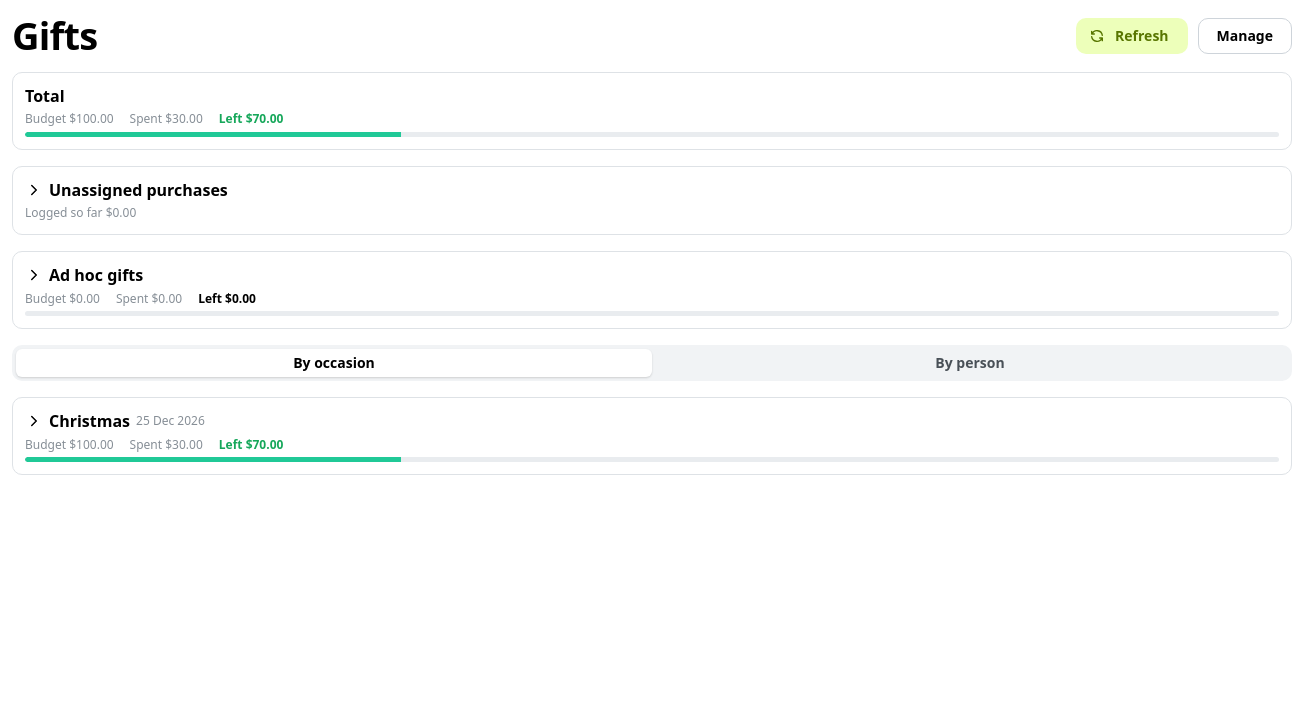
GiftsScreen wide rows › lays a gift and its purchases out as table rows with the remaining figure
Expected: the text "Left $70.00" below "Total" is shown, [219,111,283,128]
Step 1. Click the button "Christmas" → (90, 421), box [25,410,1279,462]
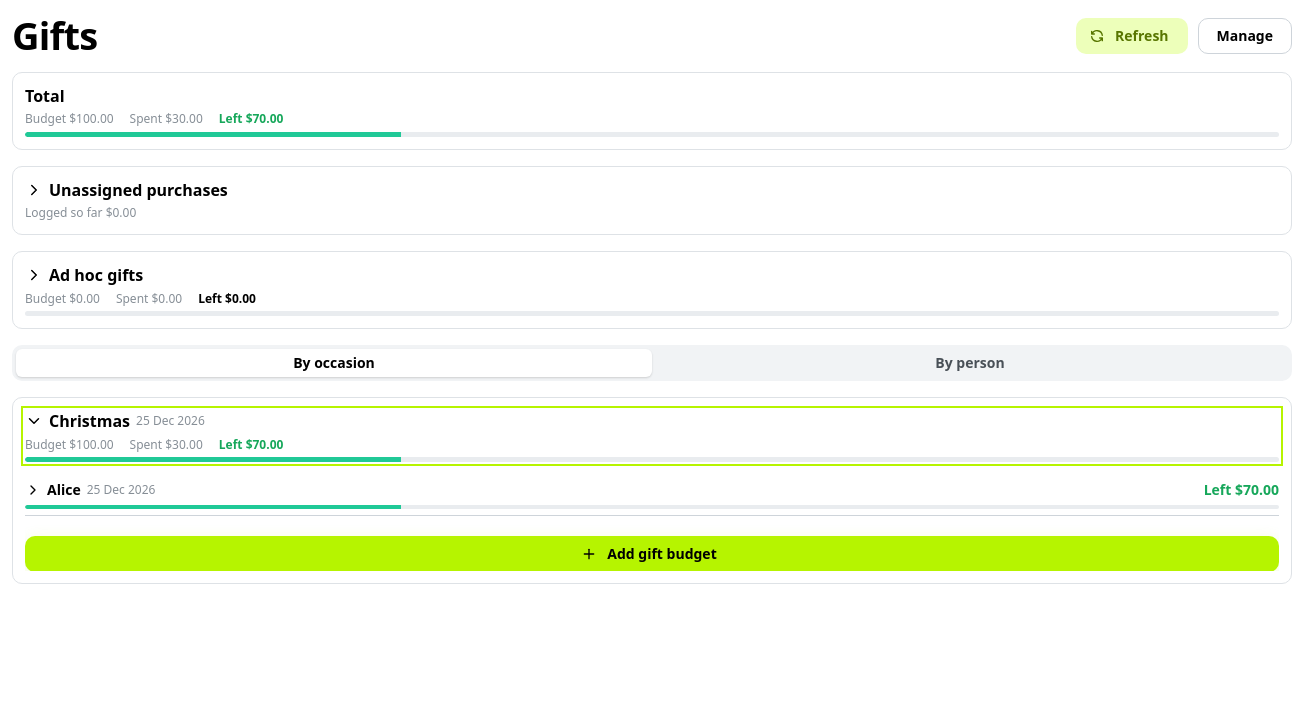
Step 2. Click the button "Alice 25 Dec 2026 Left $70.00" → (64, 490), box [25,480,1279,501]
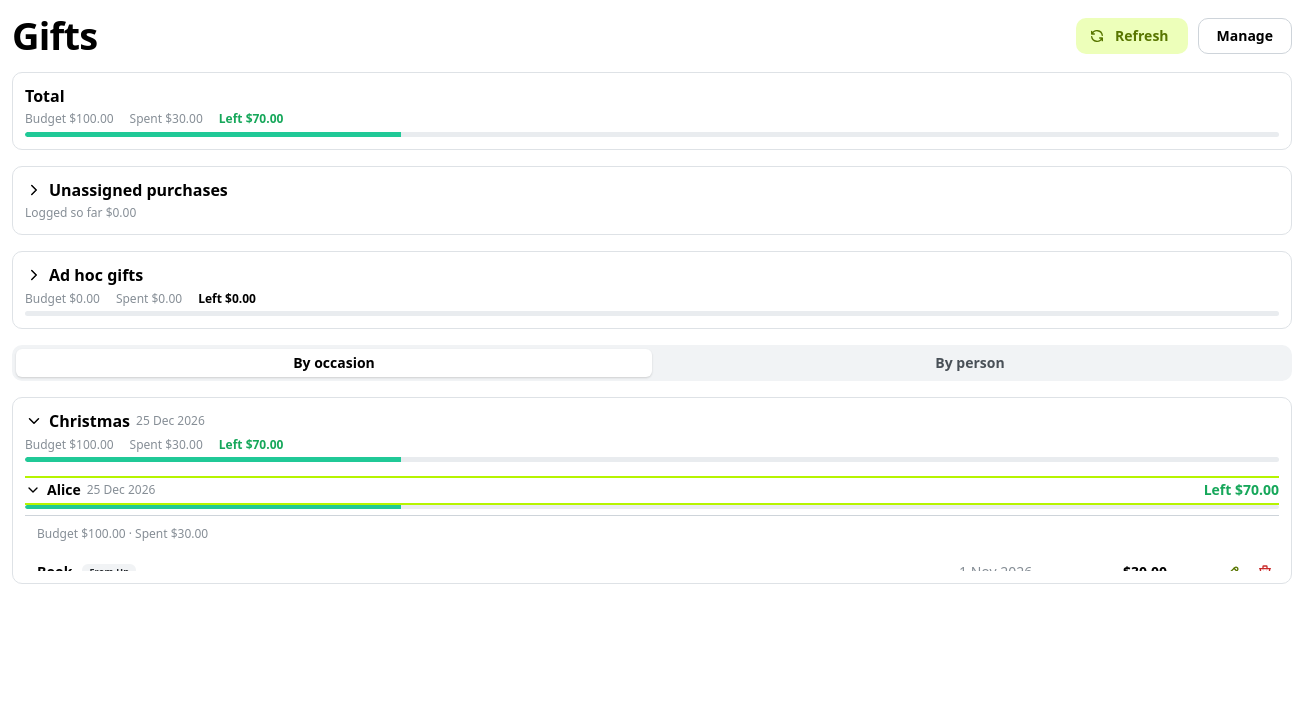
Now the text "Budget $100.00 · Spent $30.00" is shown, box [37,526,208,542]
